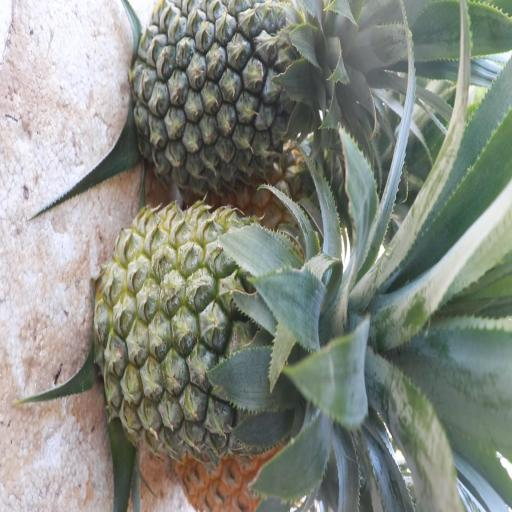------------------------------: (98, 206, 348, 442)
